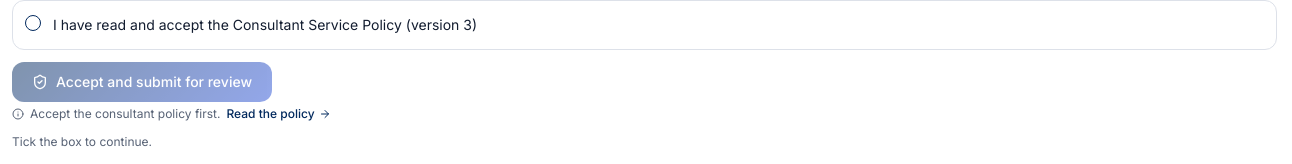
required checkbox › keeps submit disabled until ticked, then accepts that version
Later steps or results of the test are not shown.
Click the button "Accept and submit for review".
click(142, 82)  # box [12,62,272,102]
Click the checkbox named "I have read and accept the Consultant Service Policy (version 3)".
click(33, 23)  # box [25,15,41,31]
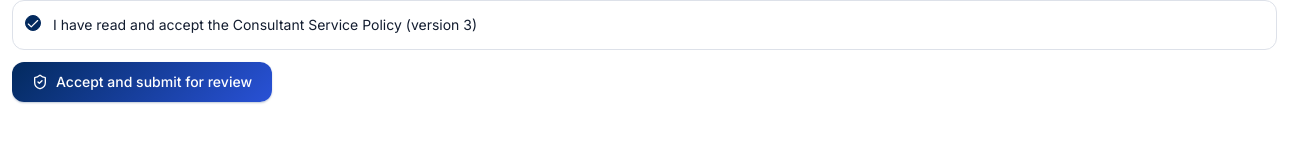
Now the button "Accept and submit for review" does not have attribute aria-disabled, box [12,62,272,102]
